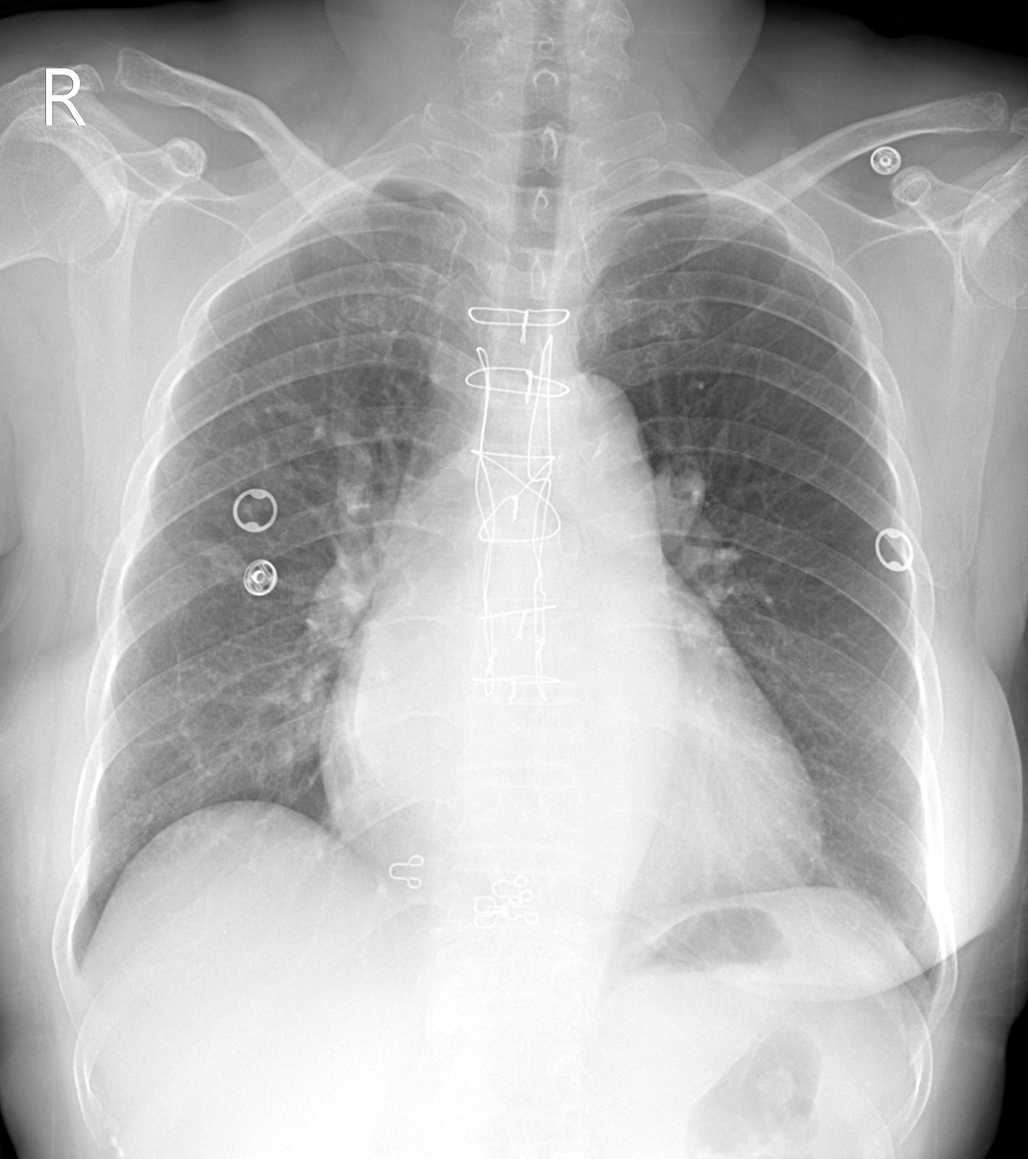Cardiomegaly: (319, 700, 822, 881)
Pulmonary fibrosis: (182, 539, 248, 573)
